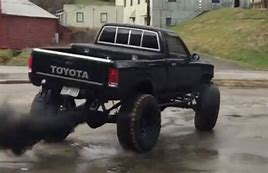smoke: (1, 101, 75, 155)
